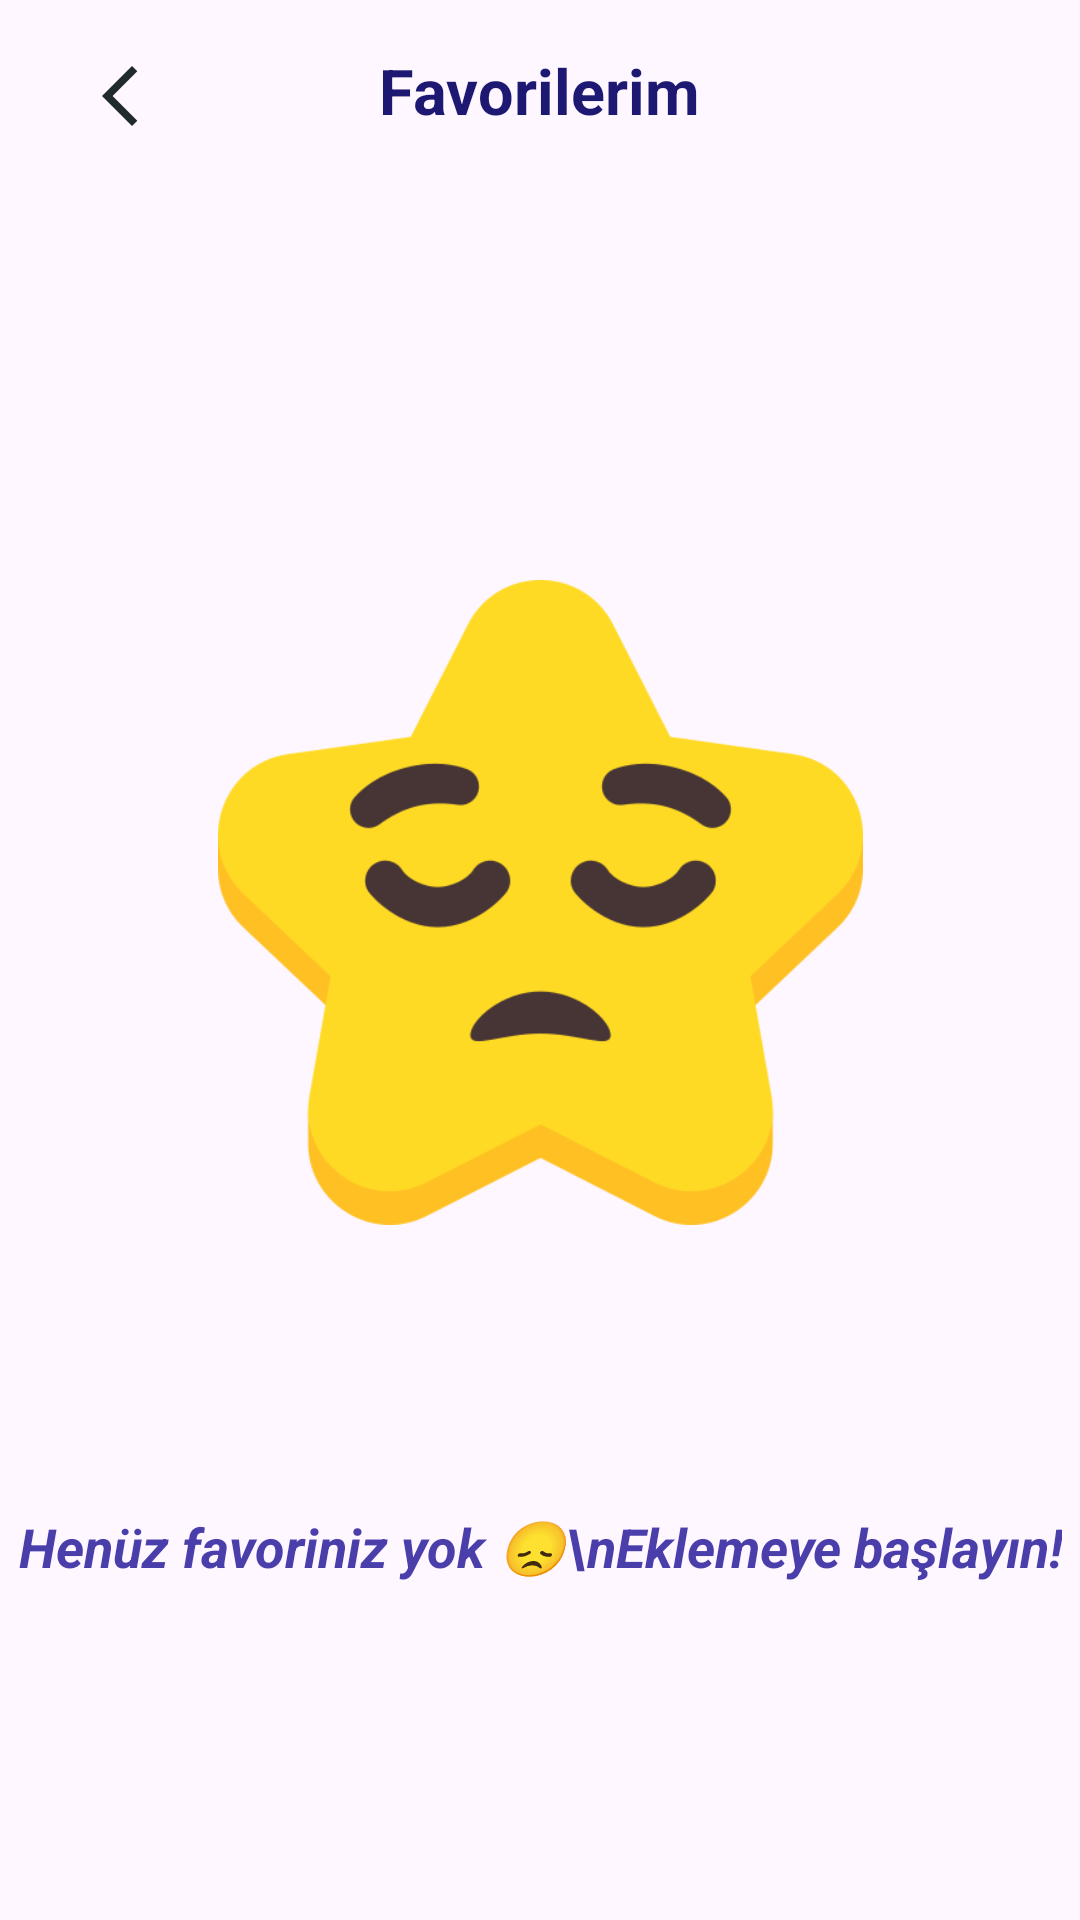

Point at icon controls on the screen. Image size 1080px x 1920px, points as (x=x, y=y).
Geri: (x=119, y=96)
